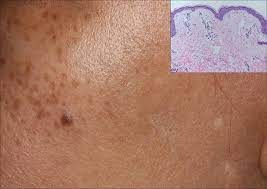Melasma: (0, 0, 106, 151)
